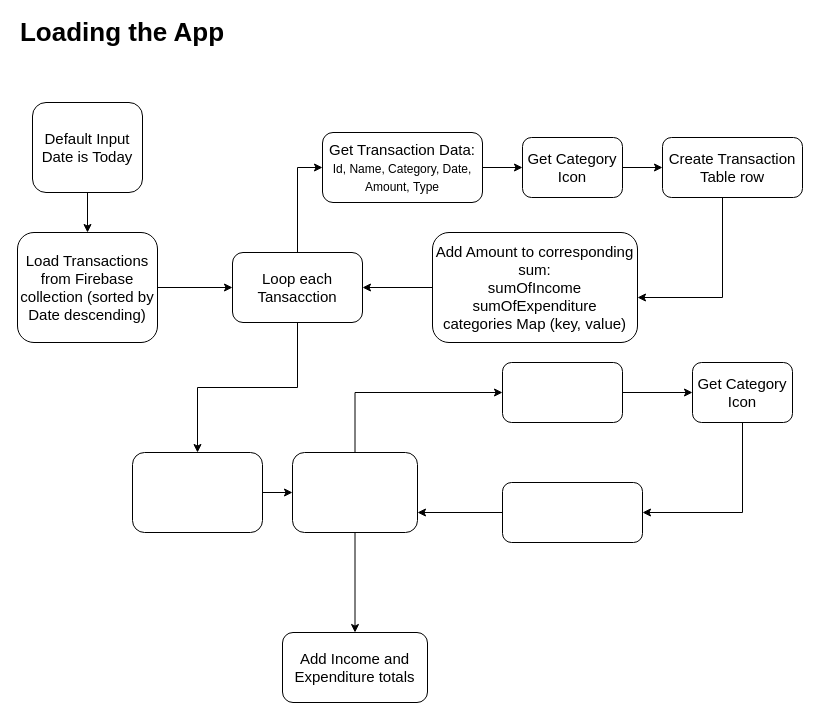
The diagram is 820 pixels wide and 720 high, and some of its shapes have lost their labels. The shapes that lost their labels are listed below. From the top down, each one's centre as x and y in pixels, then its label:
At (562,392): "Calculate Category Percentage".
At (197,492): "Sort categories from higher to lowest value.".
At (355,492): "Loop each Category from categories Map".
At (572,512): "Create Category Item".
